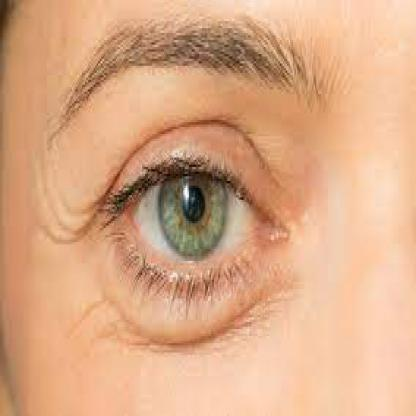darkspot: (144, 273, 286, 382), (289, 171, 393, 314), (115, 191, 130, 220)
